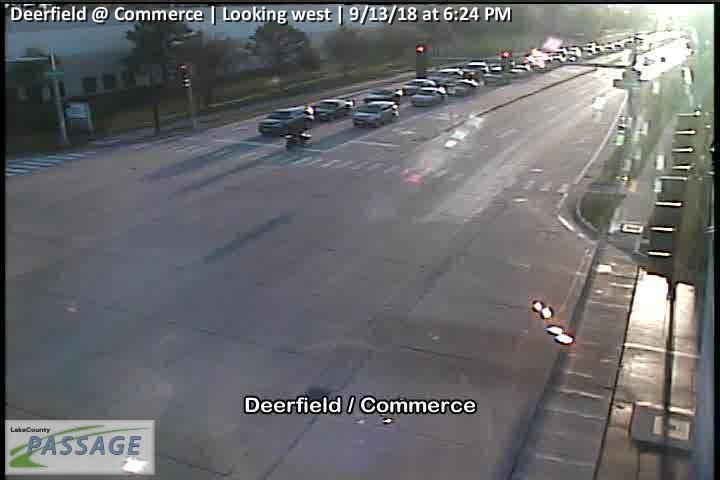Sedan: (258, 105, 315, 136), (351, 100, 400, 130), (313, 99, 352, 123), (410, 86, 449, 109), (401, 78, 435, 100), (362, 86, 396, 106), (435, 68, 466, 84), (447, 79, 479, 94)
